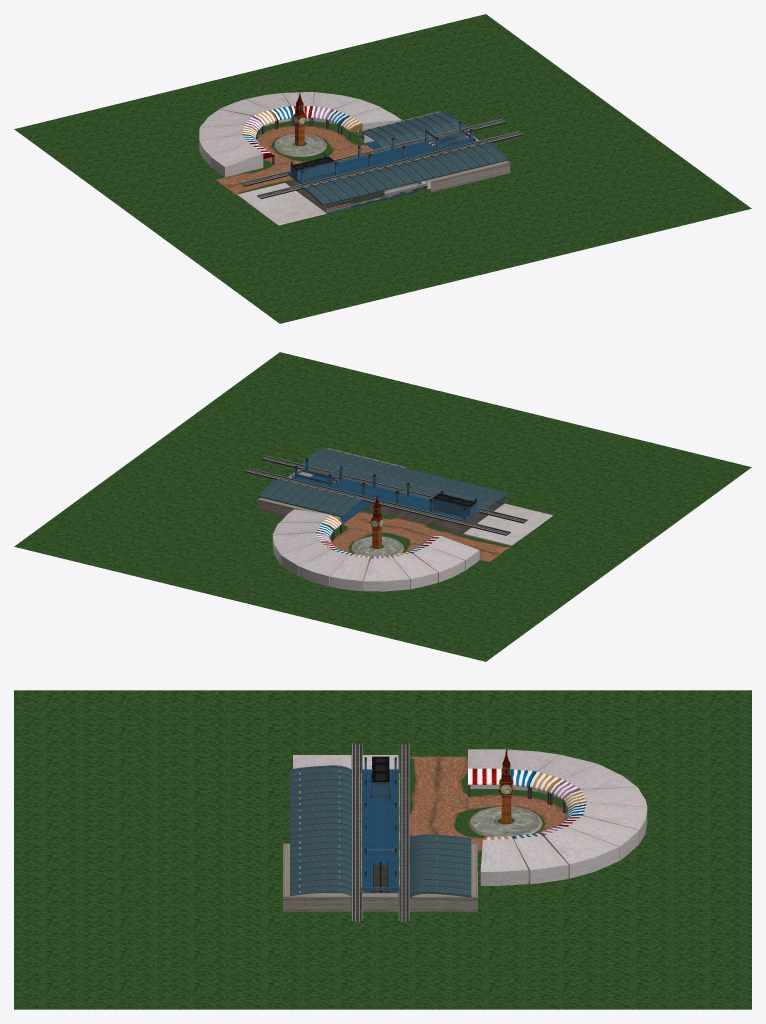
The model's file is mod_platform.fbx.
The picture shows the model from 3 angles, top to bottom: view 1: azimuth 30°, elevation 25°; view 2: azimuth 150°, elevation 25°; view 3: azimuth 270°, elevation 25°; orthographic projection. The views are drawn at different scales.
Visible parts, largest first — view 1: pPlane5, pCube97, polySurface1305, polySurface35, polySurface1397, polySurface1304, polySurface1388, pPlane1; view 2: pPlane5, pCube97, polySurface1305, polySurface35, polySurface1397, polySurface1304, polySurface1388, pPlane1; view 3: pPlane5, pCube97, polySurface1305, polySurface35, polySurface1397, polySurface1304, polySurface1388, pPlane1, pCube1.
Boxes of the visible parts, left/top/right/bottom form: pPlane5: left=14, top=14, right=751, bottom=323; pCube97: left=199, top=92, right=401, bottom=176; polySurface1305: left=215, top=121, right=373, bottom=225; polySurface35: left=240, top=118, right=523, bottom=198; polySurface1397: left=300, top=142, right=508, bottom=205; polySurface1304: left=287, top=111, right=510, bottom=213; polySurface1388: left=359, top=111, right=465, bottom=147; pPlane1: left=276, top=134, right=323, bottom=154; pPlane5: left=14, top=352, right=751, bottom=661; pCube97: left=272, top=509, right=479, bottom=591; polySurface1305: left=329, top=503, right=552, bottom=562; polySurface35: left=244, top=455, right=527, bottom=535; polySurface1397: left=302, top=447, right=510, bottom=509; polySurface1304: left=257, top=448, right=504, bottom=534; polySurface1388: left=258, top=479, right=365, bottom=517; pPlane1: left=354, top=537, right=400, bottom=556; pPlane5: left=14, top=690, right=751, bottom=1009; pCube97: left=468, top=749, right=647, bottom=885; polySurface1305: left=293, top=755, right=567, bottom=857; polySurface35: left=351, top=743, right=409, bottom=922; polySurface1397: left=290, top=765, right=351, bottom=896; polySurface1304: left=283, top=843, right=477, bottom=911; polySurface1388: left=409, top=834, right=471, bottom=897; pPlane1: left=472, top=808, right=538, bottom=835; pCube1: left=499, top=749, right=513, bottom=823.
Size of the model in its own units: 346 by 38.44 by 338.
